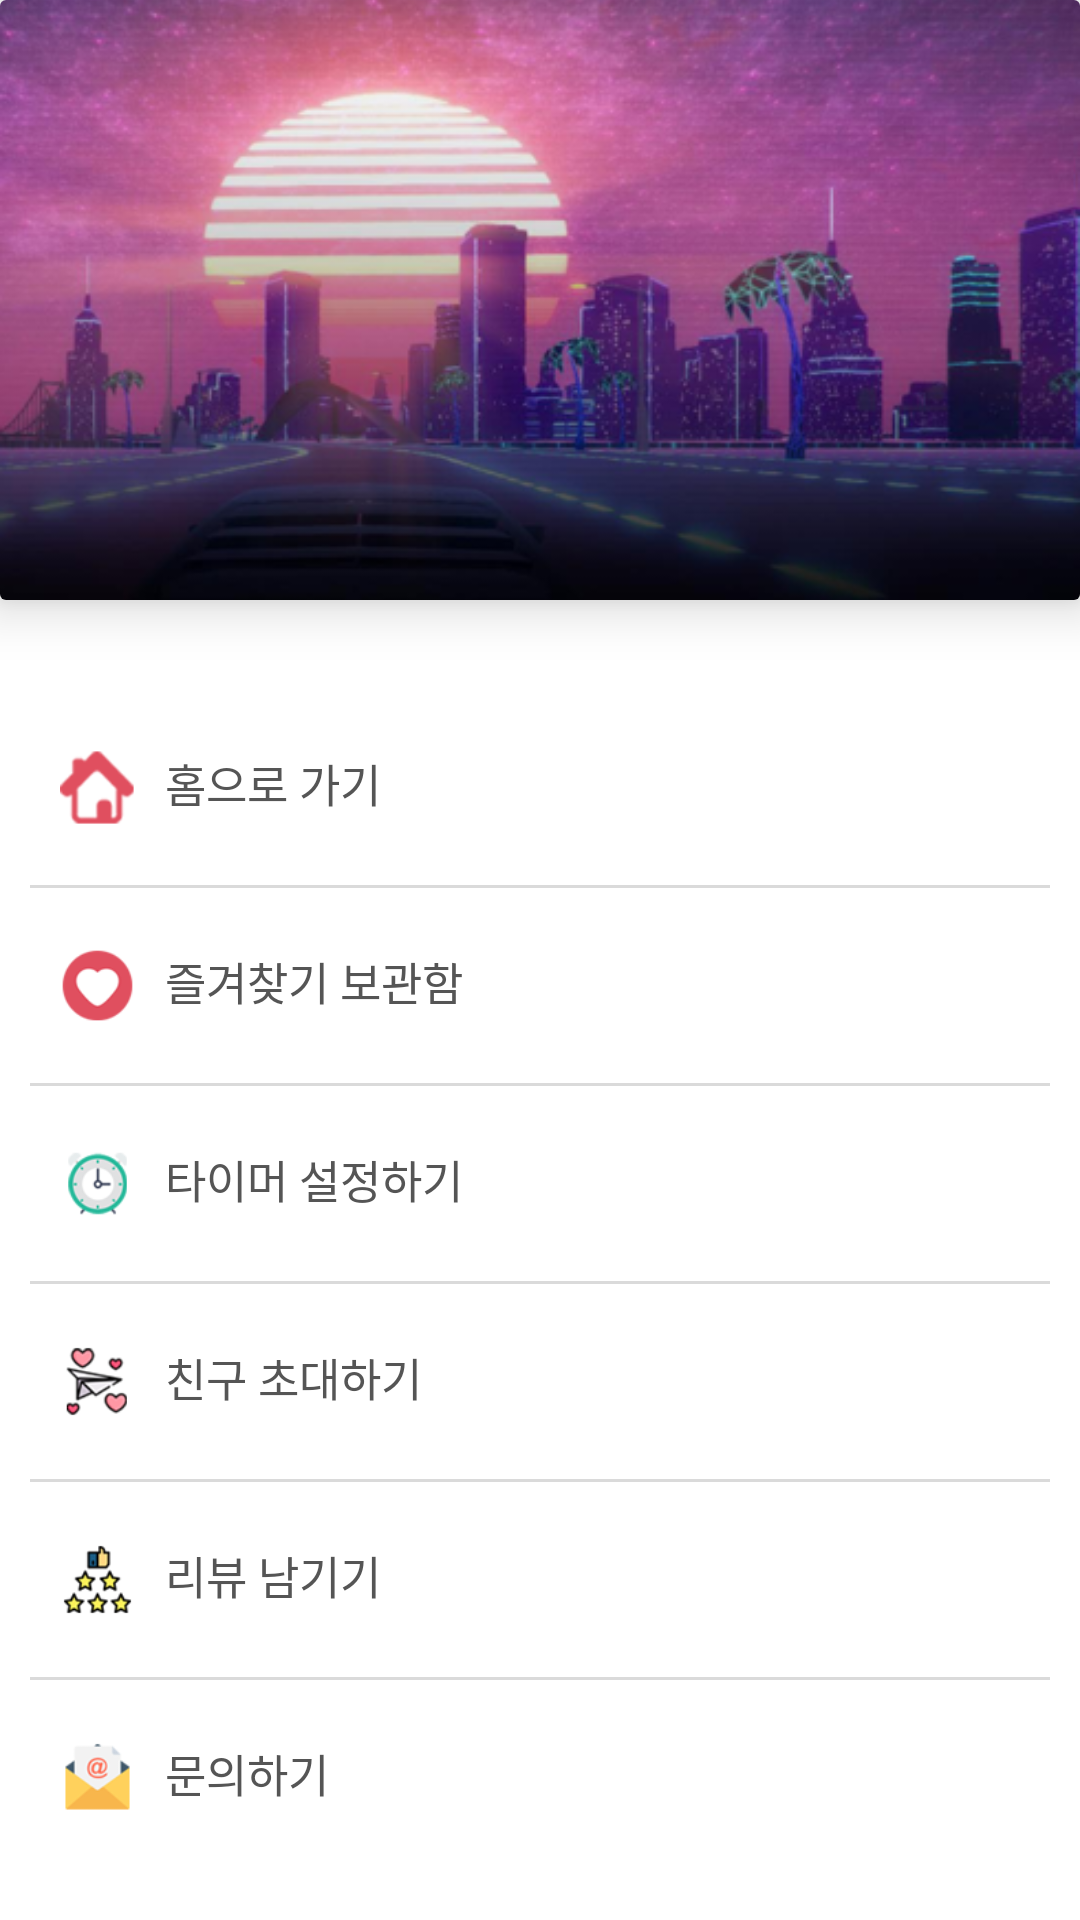

Icons on this 1080×1920 Android screen, each with its box as {"left": x1, "top": y1, "right": x2, "bottom": y2}:
favor: {"left": 62, "top": 950, "right": 133, "bottom": 1021}
home: {"left": 60, "top": 751, "right": 134, "bottom": 824}
invite: {"left": 66, "top": 1348, "right": 127, "bottom": 1415}
query: {"left": 65, "top": 1744, "right": 130, "bottom": 1810}
review: {"left": 64, "top": 1546, "right": 131, "bottom": 1613}
timer: {"left": 68, "top": 1153, "right": 127, "bottom": 1215}
